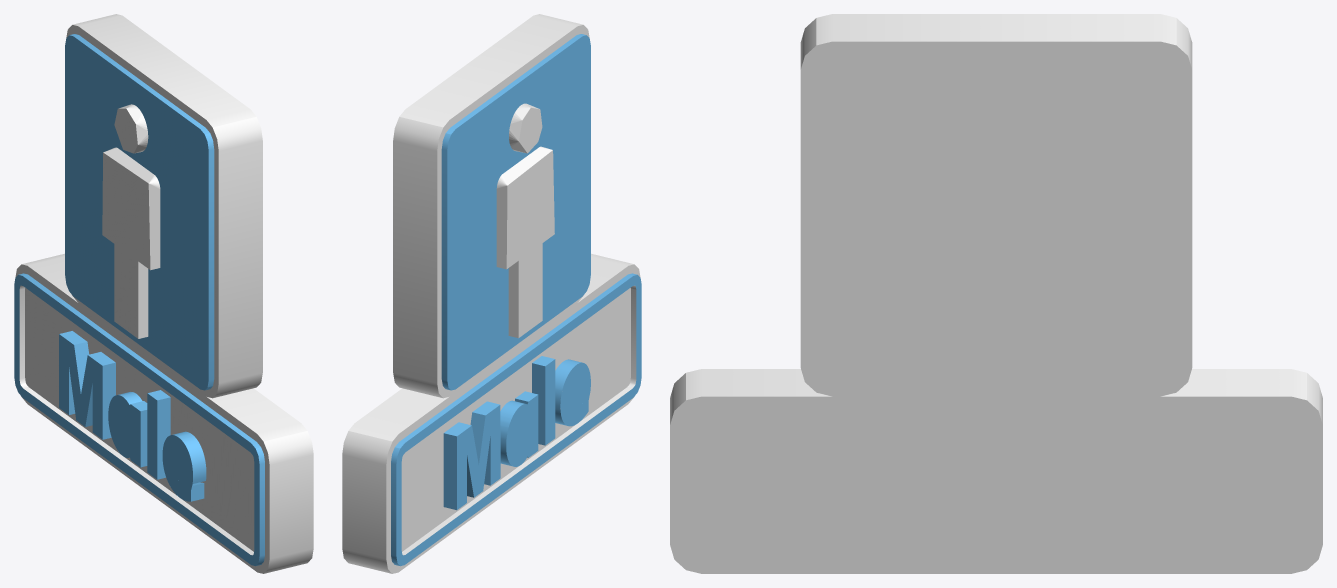
Rendered from Props_Sign_Male.fbx.
The picture shows the model from 3 angles, left to right: view 1: azimuth 30°, elevation 25°; view 2: azimuth 150°, elevation 25°; view 3: azimuth 270°, elevation 25°; orthographic projection. The views are drawn at different scales.
Visible parts, largest first — view 1: Props_Sign_Male; view 2: Props_Sign_Male; view 3: Props_Sign_Male.
Part boxes in pixels (x1,y1,x2,y2): Props_Sign_Male: (14, 14, 313, 573); Props_Sign_Male: (342, 14, 641, 573); Props_Sign_Male: (670, 14, 1322, 573).
Bounding box in the file's own units: 13.79 × 90 × 100.
